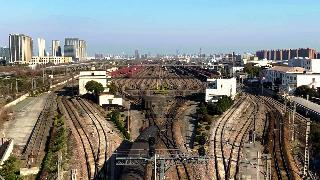train: (118, 126, 158, 180), (142, 95, 152, 109)
